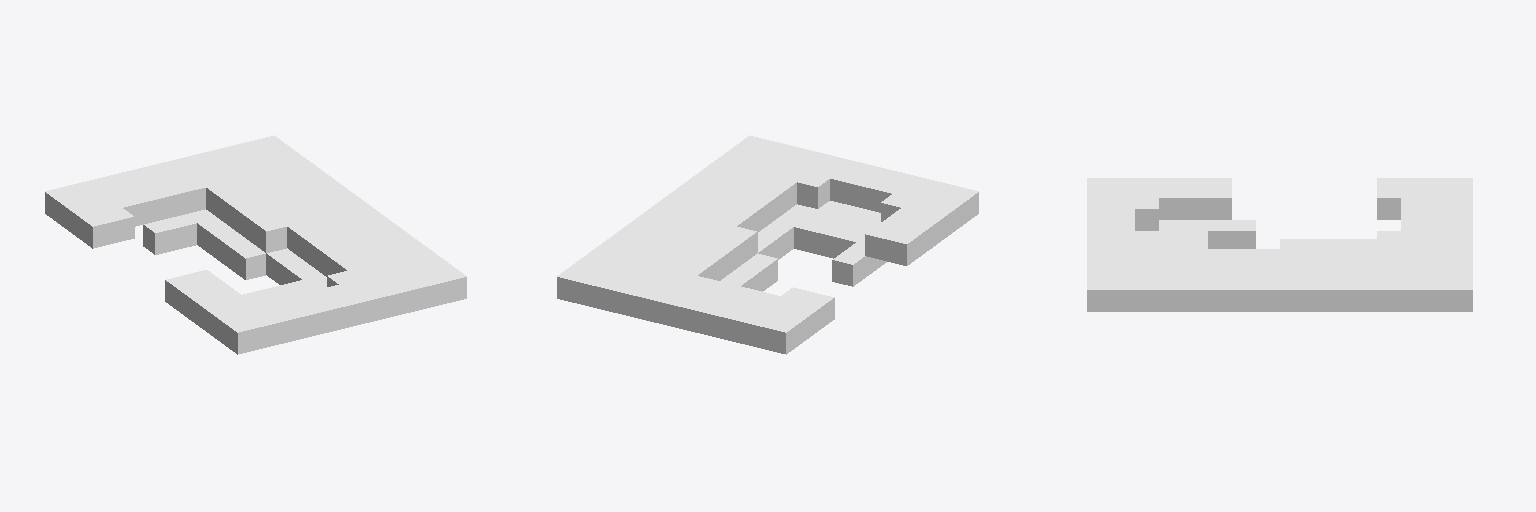
File: stairs_shard-3.obj
3 renders of one model, left to right at view 1: azimuth 30°, elevation 25°; view 2: azimuth 150°, elevation 25°; view 3: azimuth 270°, elevation 25°, orthographic.
Parts seen in each view (by area): view 1: object 1; view 2: object 1; view 3: object 1.
Part boxes in pixels (x1,y1,x2,y2): object 1: (45, 135, 466, 354); object 1: (557, 135, 978, 354); object 1: (1087, 178, 1472, 311).
Bounding box in the file's own units: 1.1 × 0.2 × 1.6.